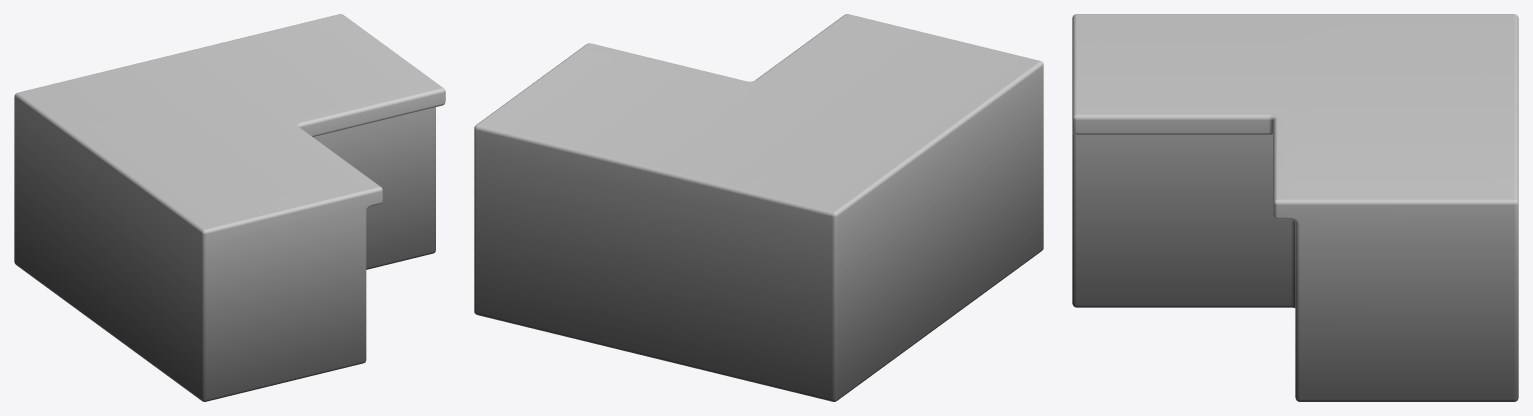
Rendered from HH_Counter_3Unit.fbx.
3 views of the same model, side by side, from view 1: azimuth 30°, elevation 25°; view 2: azimuth 150°, elevation 25°; view 3: azimuth 270°, elevation 25° (orthographic). The views are drawn at different scales.
Parts seen in each view (by area): view 1: Counter_3Unit; view 2: Counter_3Unit; view 3: Counter_3Unit.
Boxes of the visible parts, <box> form: Counter_3Unit: <box>14,14,445,401</box>; Counter_3Unit: <box>474,14,1043,401</box>; Counter_3Unit: <box>1072,14,1518,401</box>.
Size of the model in its own units: 200 by 100 by 200.
1 material, 1 textured.
